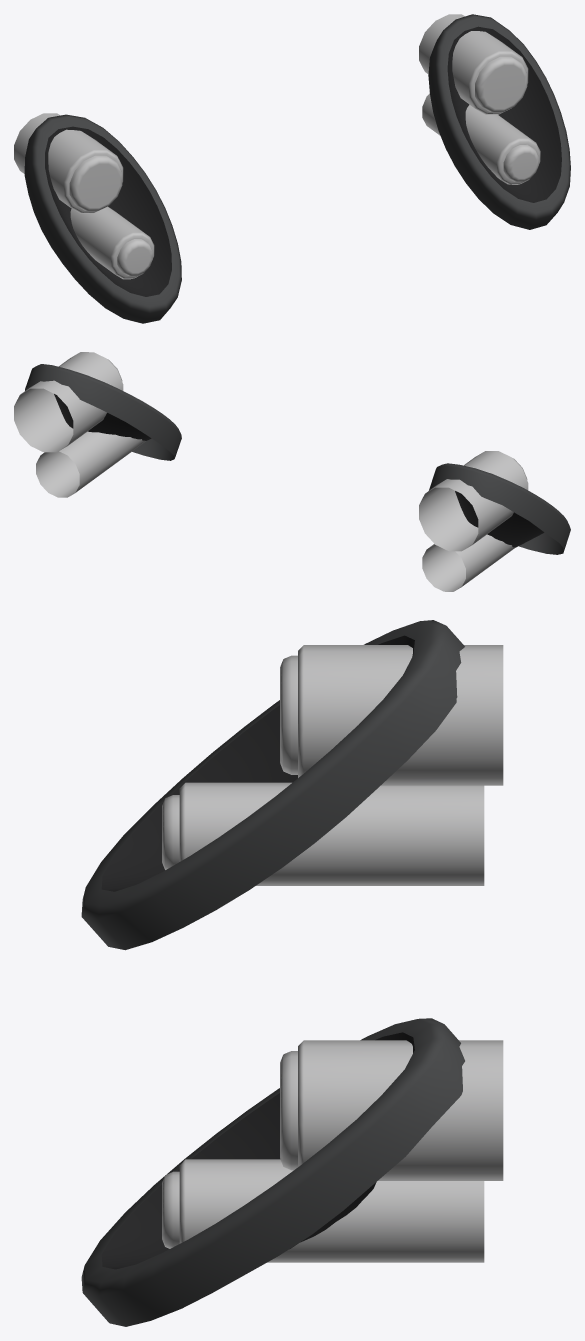
File: Car_10_Headlight_Cool.fbx
3 views of the same model, one above another, from view 1: azimuth 30°, elevation 25°; view 2: azimuth 150°, elevation 25°; view 3: azimuth 270°, elevation 25° (orthographic). The views are drawn at different scales.
Parts seen in each view (by area): view 1: Car_10_Headlight_Cool; view 2: Car_10_Headlight_Cool; view 3: Car_10_Headlight_Cool.
Boxes of the visible parts, box(x1,y1,x2,y2) form: Car_10_Headlight_Cool: box(14, 14, 570, 323); Car_10_Headlight_Cool: box(14, 352, 570, 591); Car_10_Headlight_Cool: box(81, 620, 503, 1326).
Size of the model in its own units: 190 by 68.63 by 52.89.
